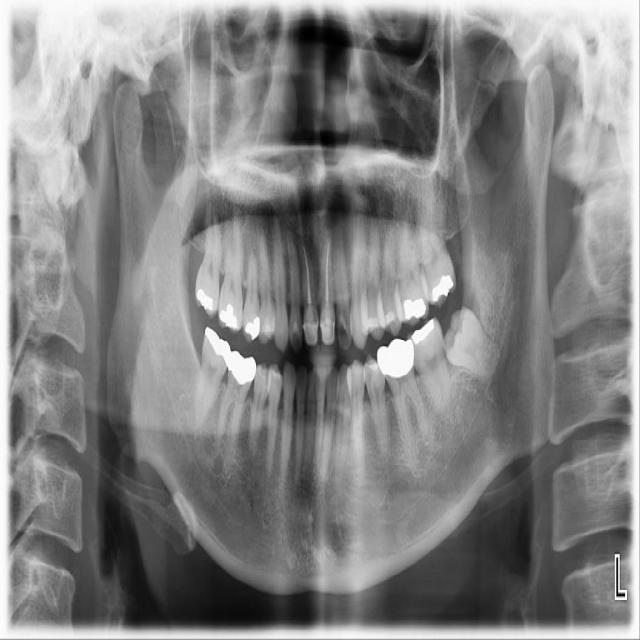52: (395, 314, 456, 372), (393, 271, 431, 328), (193, 325, 241, 370), (375, 337, 417, 386), (421, 261, 456, 310), (225, 349, 259, 392), (395, 283, 430, 324), (194, 265, 220, 319), (218, 281, 243, 334), (362, 292, 388, 342), (378, 290, 403, 336), (302, 301, 320, 353), (320, 300, 337, 355), (241, 298, 260, 344)
73: (294, 228, 319, 307), (320, 230, 334, 307), (612, 568, 616, 574)
BioHorizons Implant: (411, 164, 460, 312)
Biomet 3i Implant: (431, 302, 516, 383)
Blue Sky Bio Implant: (403, 314, 457, 428)
Caries: (192, 204, 226, 319)
Implant: (187, 327, 235, 430)
